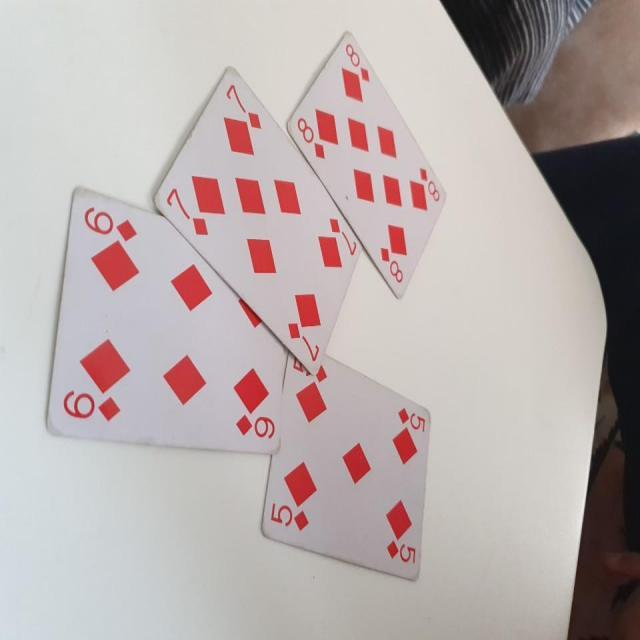5 of diamonds: (256, 348, 432, 584)
6 of diamonds: (45, 183, 284, 453)
7 of diamonds: (154, 63, 360, 376)
8 of diamonds: (286, 31, 447, 302)
